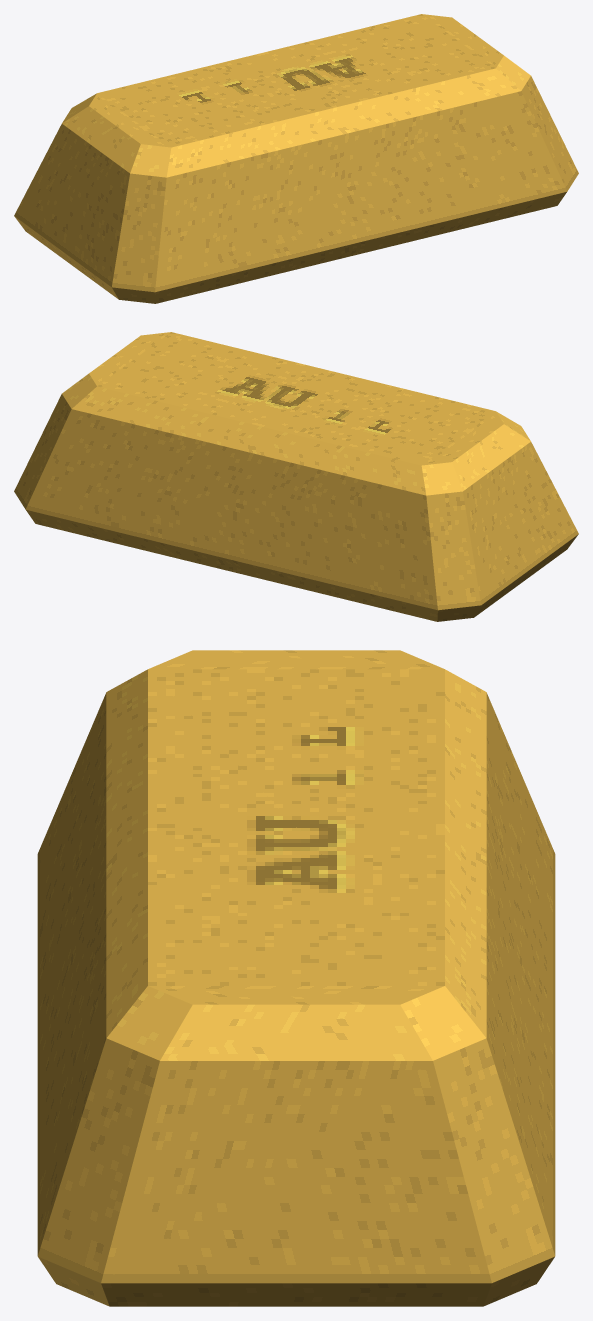
File: 1l_gold.glb
3 views of the same model, one above another, from view 1: azimuth 30°, elevation 25°; view 2: azimuth 150°, elevation 25°; view 3: azimuth 270°, elevation 25° (orthographic). The views are drawn at different scales.
Parts seen in each view (by area): view 1: block_one-piece cast ingot; view 2: block_one-piece cast ingot; view 3: block_one-piece cast ingot.
Part boxes in pixels (x1=…): block_one-piece cast ingot: x1=14, y1=14, x2=578, y2=303; block_one-piece cast ingot: x1=14, y1=332, x2=578, y2=621; block_one-piece cast ingot: x1=37, y1=650, x2=555, y2=1306.
Bounding box in the file's own units: 0.181 × 0.0482 × 0.0868.
Materials: 1 (1 with a texture image).
